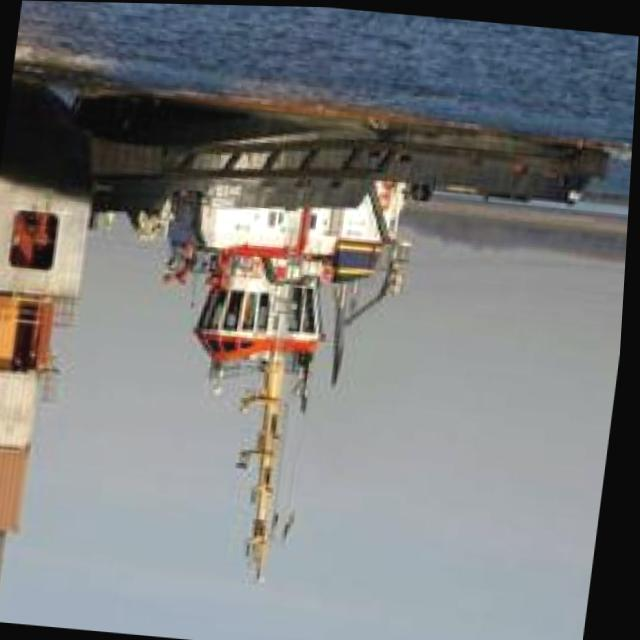ship2: (77, 92, 611, 580)
